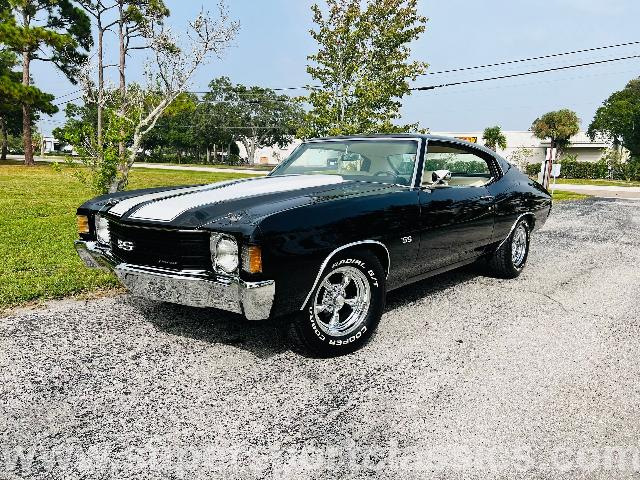chevelle-1972: (74, 134, 552, 357)
